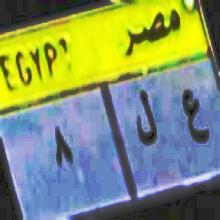8: (52, 120, 76, 180)
ain: (179, 92, 211, 149)
laam: (134, 85, 158, 154)
